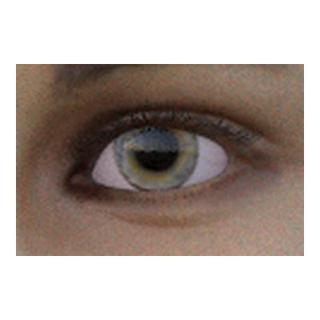pupil: (134, 127, 178, 172)
